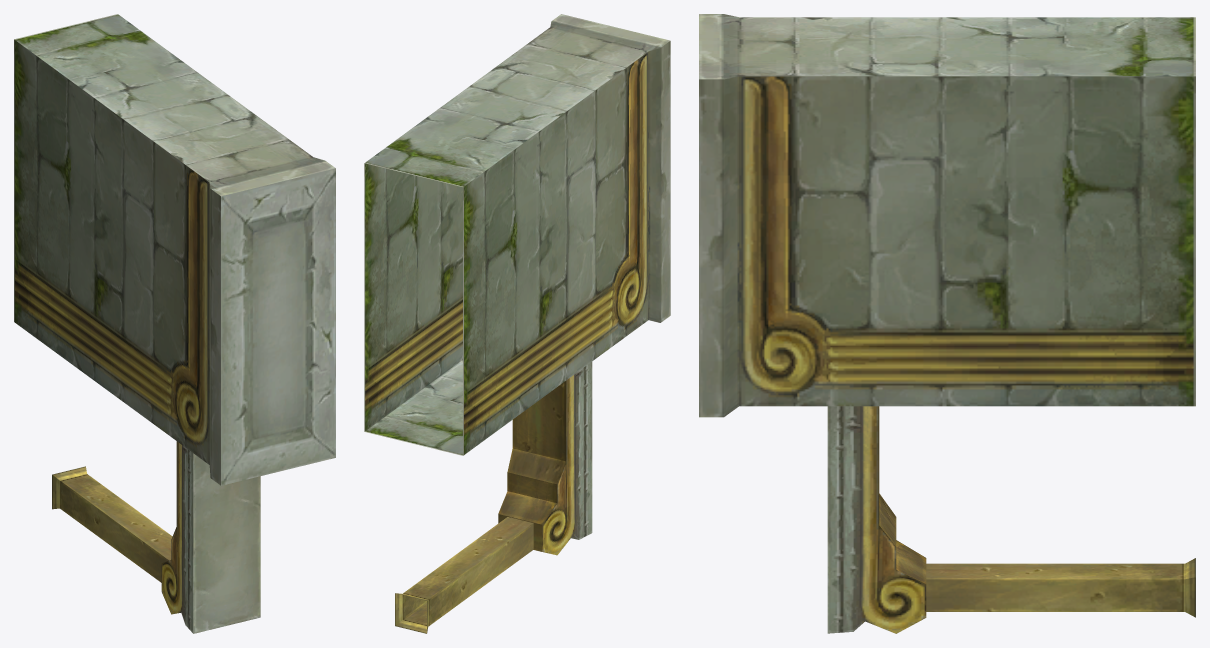
File: xila_yewai_45_taijie_01.obj
3 renders of one model, left to right at view 1: azimuth 30°, elevation 25°; view 2: azimuth 150°, elevation 25°; view 3: azimuth 270°, elevation 25°, orthographic. The views are drawn at different scales.
Parts seen in each view (by area): view 1: xila_yewai_45_taijie_01; view 2: xila_yewai_45_taijie_01; view 3: xila_yewai_45_taijie_01.
Part boxes in pixels (x1=…): xila_yewai_45_taijie_01: x1=14, y1=14, x2=335, y2=633; xila_yewai_45_taijie_01: x1=364, y1=14, x2=670, y2=633; xila_yewai_45_taijie_01: x1=699, y1=14, x2=1195, y2=633.
Bounding box in the file's own units: 56.74 × 231 × 182.
2 materials, 2 textured.
